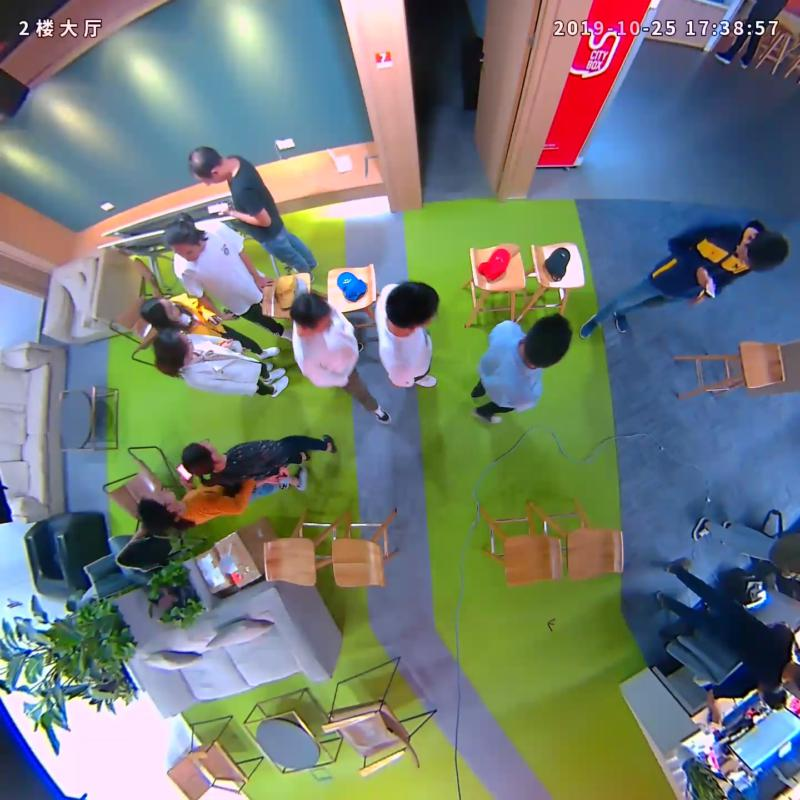head: (523, 313, 573, 369), (384, 279, 441, 328), (735, 231, 788, 271), (289, 291, 331, 333), (164, 218, 204, 261), (137, 489, 176, 532), (153, 329, 196, 367), (187, 146, 225, 185), (182, 440, 219, 477), (139, 297, 182, 328)
